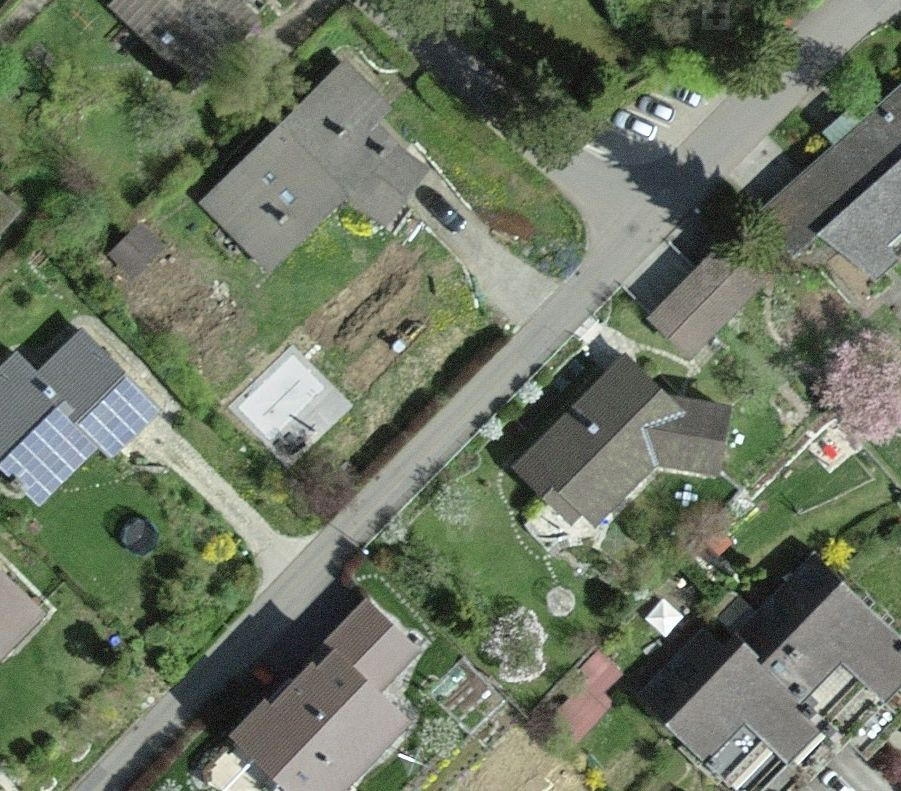solar: (1, 377, 163, 512)
